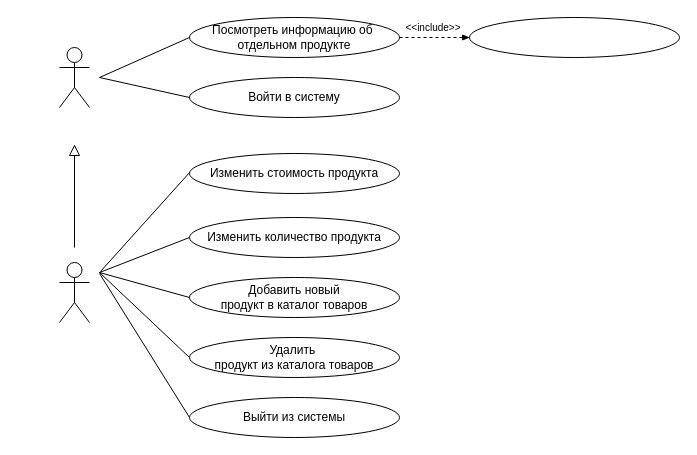
Some shapes in this 697 by 455 pixel diagram are drawn without their labels. Each missing label, with the centre of its shape:
"Администратор" goes at point 74,292.
"Неавторизированный пользователь" goes at point 74,77.
"Посмотреть каталог товаров" goes at point 574,37.
